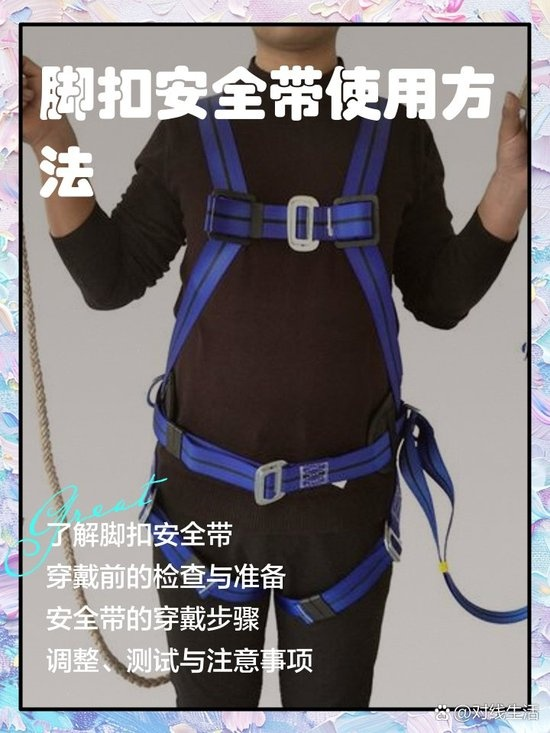safety belt: (165, 110, 422, 621)
